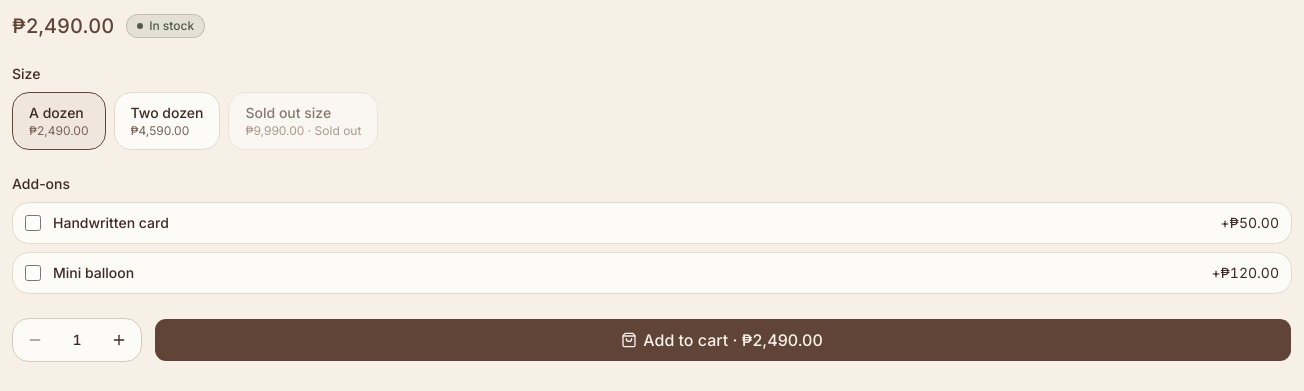
Test: AddToCartForm › selects variants, caps quantity at available stock and totals add-ons
Expected: the button "Add to cart · ₱2,490.00" is enabled, [154, 318, 1292, 362]
Step 1. Click the radio button labelled "Two dozen ₱4,590.00" → coordinates (167, 121), box [114, 92, 220, 150]
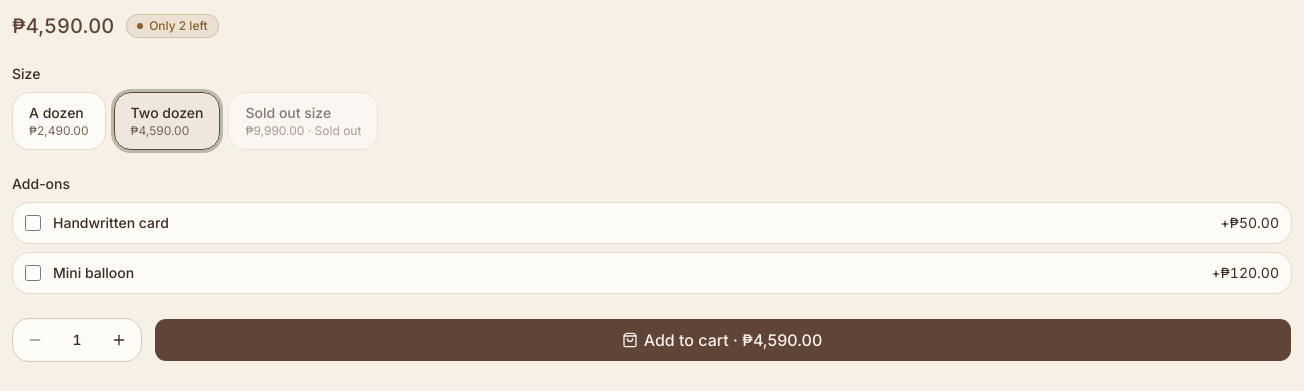
Expected: the button "Add to cart · ₱4,590.00" is shown, [154, 318, 1292, 362]
Expected: the text "Only 2 left" is shown, [126, 14, 219, 38]
Step 2. Click the button named "Increase quantity" → coordinates (119, 340), box [97, 319, 141, 361]
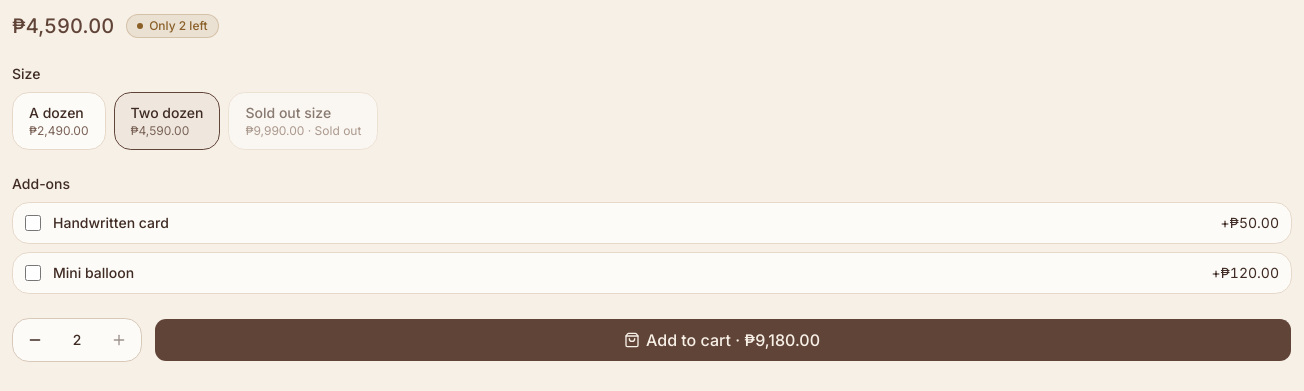
Expected: the button named "Increase quantity" is disabled, [97, 319, 141, 361]
Expected: the button "Add to cart · ₱9,180.00" is shown, [154, 318, 1292, 362]
Step 3. Click the checkbox labelled "Handwritten card" → coordinates (33, 223), box [25, 215, 41, 231]
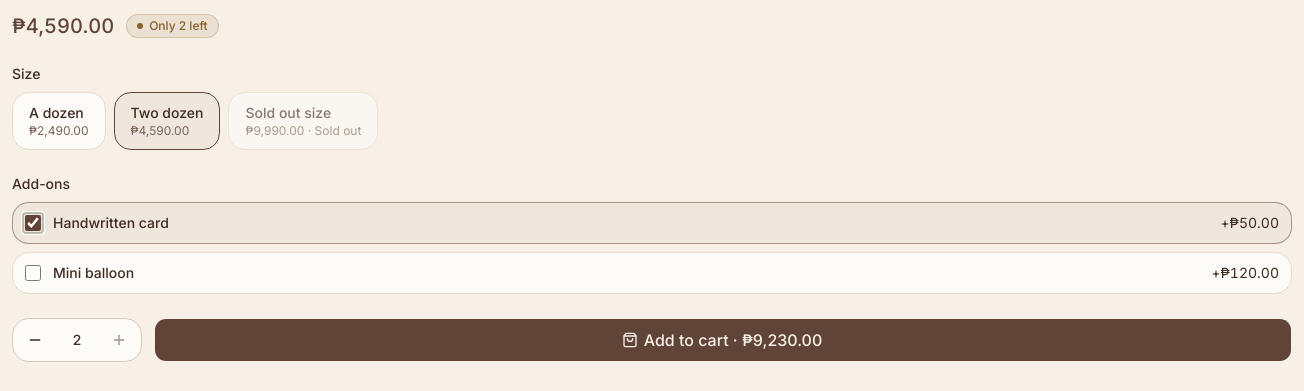
Step 4. Click the checkbox labelled "Mini balloon" → coordinates (33, 273), box [25, 265, 41, 281]
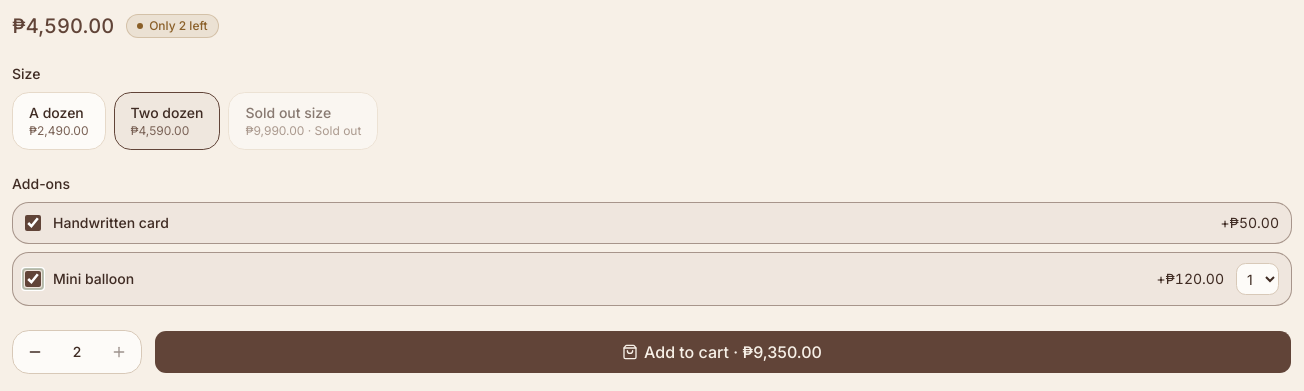
Step 5. Select "3" in the dropdown named "Mini balloon quantity" → coordinates (1258, 279), box [1236, 263, 1279, 295]
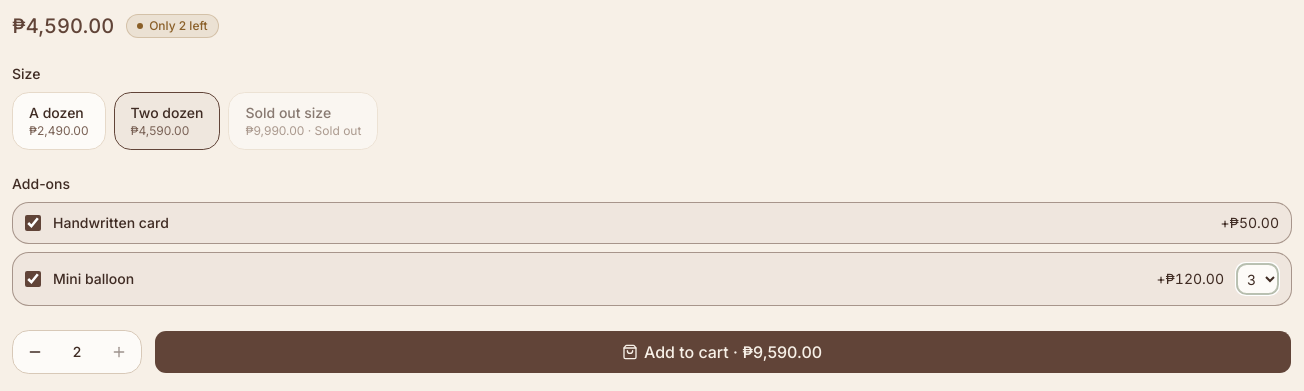
Expected: the button "Add to cart · ₱9,590.00" is shown, [154, 330, 1292, 374]
